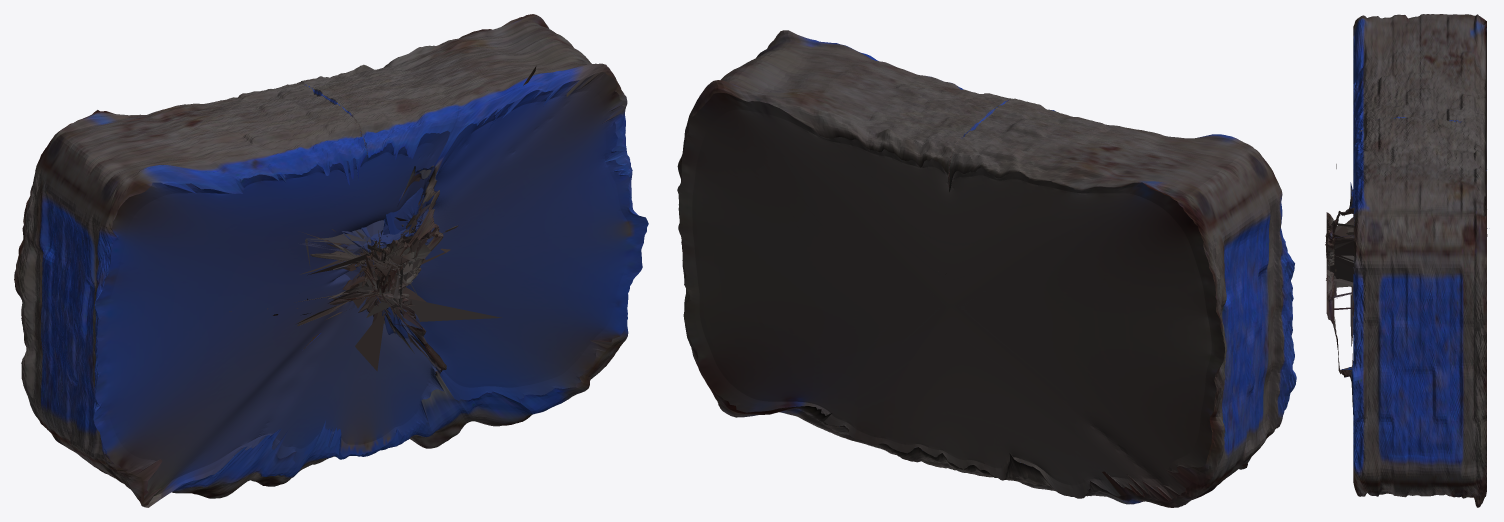
The model's file is membrane3_mesh.glb.
The picture shows the model from 3 angles, left to right: view 1: azimuth 30°, elevation 25°; view 2: azimuth 150°, elevation 25°; view 3: azimuth 270°, elevation 25°; orthographic projection. The views are drawn at different scales.
Parts seen in each view (by area): view 1: fill, ipn; view 2: fill, ipn; view 3: ipn, fill.
Part boxes in pixels (<box>): fill: <box>93,72,648,504</box>; ipn: <box>14,14,641,507</box>; fill: <box>677,93,1224,499</box>; ipn: <box>677,30,1296,507</box>; ipn: <box>1326,14,1486,507</box>; fill: <box>1325,27,1487,470</box>.
Bounding box in the file's own units: 1.95 × 1.25 × 0.5651.
Materials: 2 (1 with a texture image).
